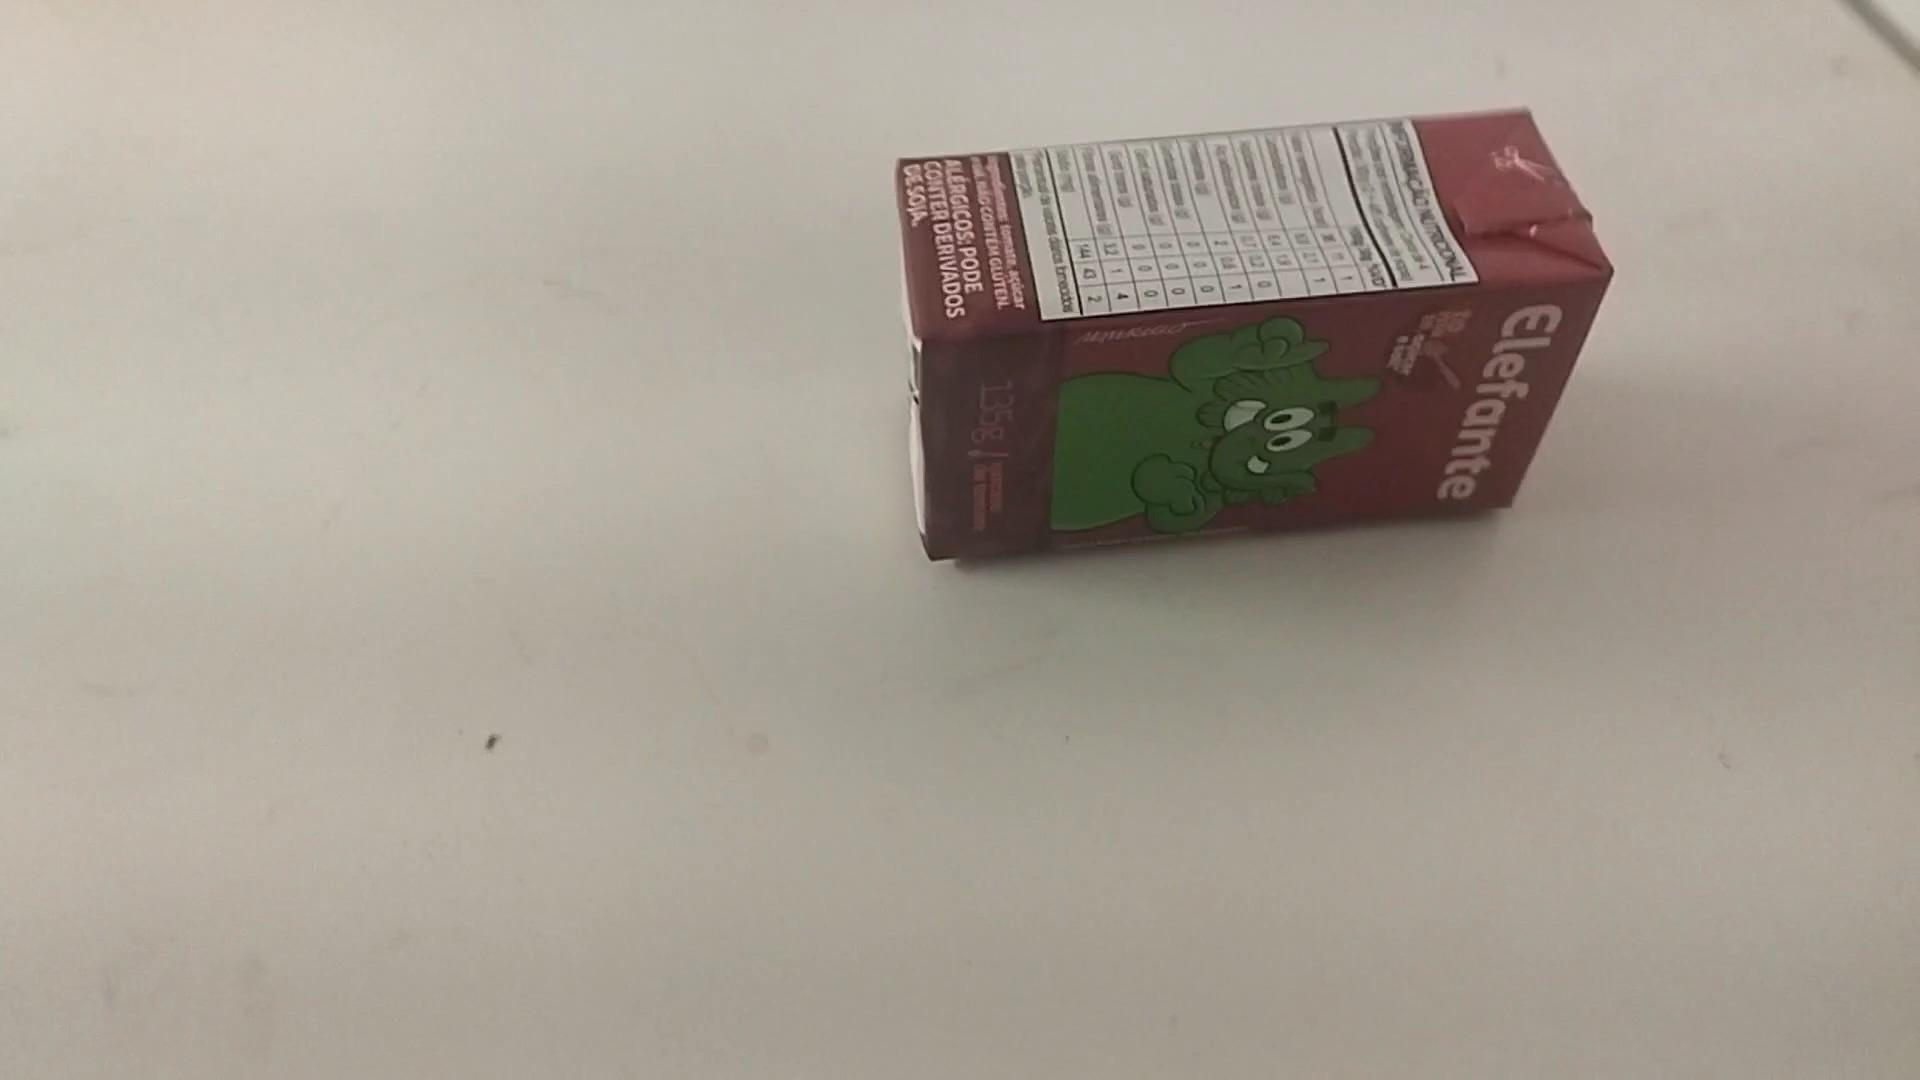tomate: (878, 98, 1611, 578)
